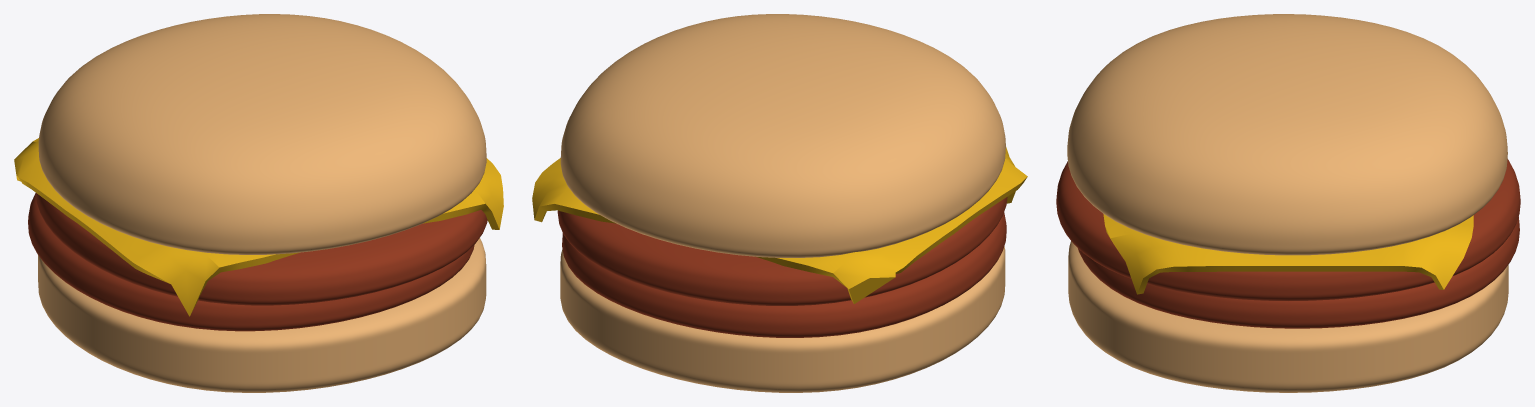
Rendered from burgur.glb.
The picture shows the model from 3 angles, left to right: view 1: azimuth 30°, elevation 25°; view 2: azimuth 150°, elevation 25°; view 3: azimuth 270°, elevation 25°; orthographic projection.
Visible parts, largest first — view 1: Cube.002, Cube, Cube.001, Cube.003, Plane; view 2: Cube.002, Cube, Cube.001, Cube.003, Plane; view 3: Cube.002, Cube, Cube.001, Cube.003, Plane.
Part boxes in pixels (box(x1,y1,x2,y2)): Cube.002: box(38, 14, 486, 254); Cube: box(38, 238, 486, 392); Cube.001: box(35, 193, 487, 305); Cube.003: box(28, 193, 474, 331); Plane: box(14, 138, 503, 316); Cube.002: box(560, 14, 1005, 257); Cube: box(560, 246, 1005, 392); Cube.001: box(557, 197, 1007, 305); Cube.003: box(562, 212, 1006, 337); Plane: box(532, 147, 1027, 303); Cube.002: box(1067, 14, 1507, 255); Cube: box(1068, 241, 1508, 392); Cube.001: box(1056, 159, 1520, 300); Cube.003: box(1078, 217, 1519, 328); Plane: box(1103, 214, 1473, 294).
Bounding box in the file's own units: 4.14 × 2.61 × 4.31.
